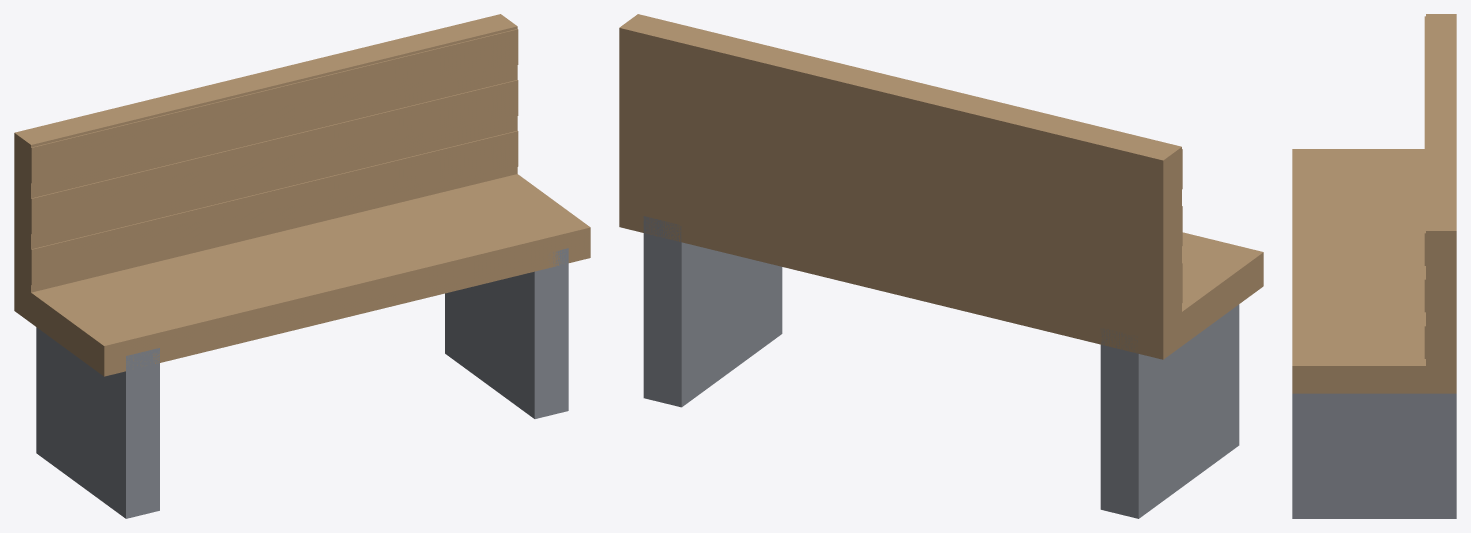
The model's file is plaza_bench.glb.
3 views of the same model, side by side, from view 1: azimuth 30°, elevation 25°; view 2: azimuth 150°, elevation 25°; view 3: azimuth 270°, elevation 25° (orthographic). The views are drawn at different scales.
Parts seen in each view (by area): view 1: BenchSeat, BenchBack, BackSlat_2, BackSlat_1, BackSlat_0, BenchLegL_-2.1, BenchLegL_2.1; view 2: BenchBack, BenchSeat, BenchLegL_-2.1, BenchLegL_2.1; view 3: BenchSeat, BenchLegL_2.1, BenchBack, BackSlat_2, BackSlat_1, BackSlat_0.
Part boxes in pixels (x1=…): BenchSeat: x1=14, y1=174, x2=590, y2=376; BenchBack: x1=14, y1=14, x2=517, y2=307; BackSlat_2: x1=25, y1=29, x2=518, y2=183; BackSlat_1: x1=25, y1=80, x2=518, y2=234; BackSlat_0: x1=25, y1=130, x2=518, y2=285; BenchLegL_-2.1: x1=36, y1=327, x2=159, y2=518; BenchLegL_2.1: x1=445, y1=248, x2=568, y2=418; BenchBack: x1=619, y1=14, x2=1181, y2=342; BenchSeat: x1=619, y1=193, x2=1263, y2=359; BenchLegL_-2.1: x1=1100, y1=304, x2=1239, y2=518; BenchLegL_2.1: x1=643, y1=216, x2=782, y2=407; BenchSeat: x1=1292, y1=149, x2=1456, y2=393; BenchLegL_2.1: x1=1292, y1=393, x2=1456, y2=518; BenchBack: x1=1426, y1=14, x2=1456, y2=379; BackSlat_2: x1=1424, y1=16, x2=1436, y2=265; BackSlat_1: x1=1424, y1=266, x2=1436, y2=312; BackSlat_0: x1=1424, y1=312, x2=1436, y2=358.
Size of the model in its own units: 5 by 3.2 by 1.6.
